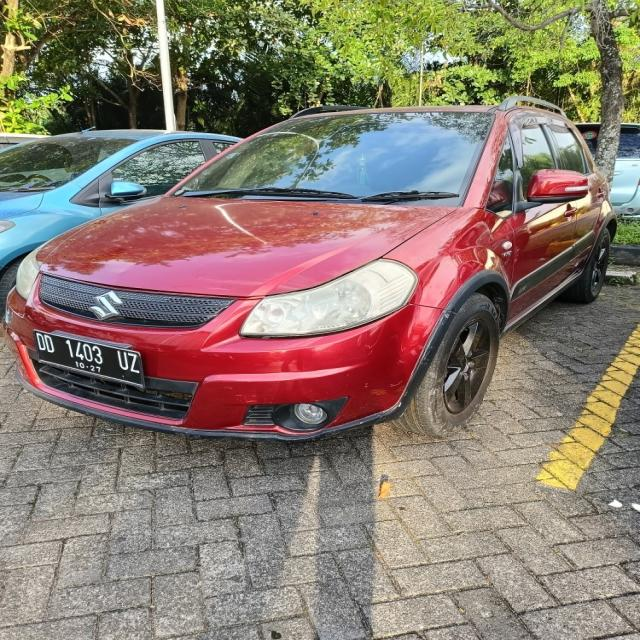plates: (28, 326, 149, 397)
